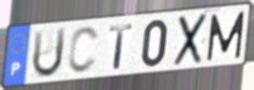0: (139, 18, 170, 69)
C: (66, 24, 101, 76)
M: (206, 9, 247, 63)
T: (107, 22, 135, 71)
U: (30, 26, 68, 81)
X: (172, 11, 210, 69)
